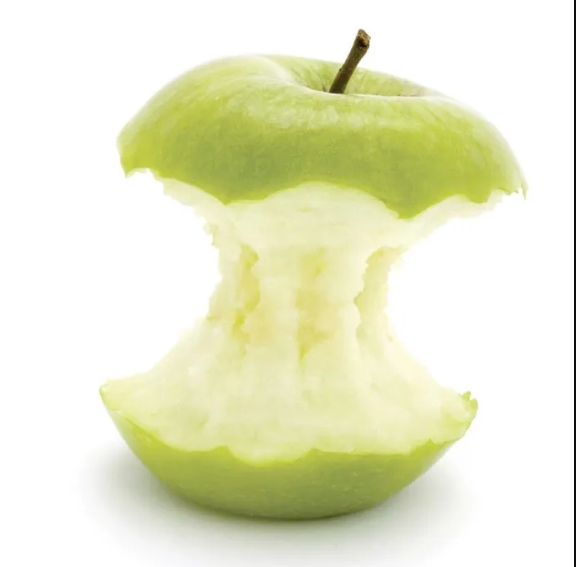apple: (66, 36, 524, 534)
